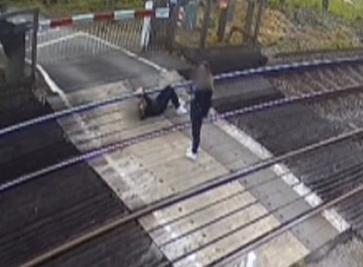person: (176, 61, 229, 159), (123, 77, 192, 123)
